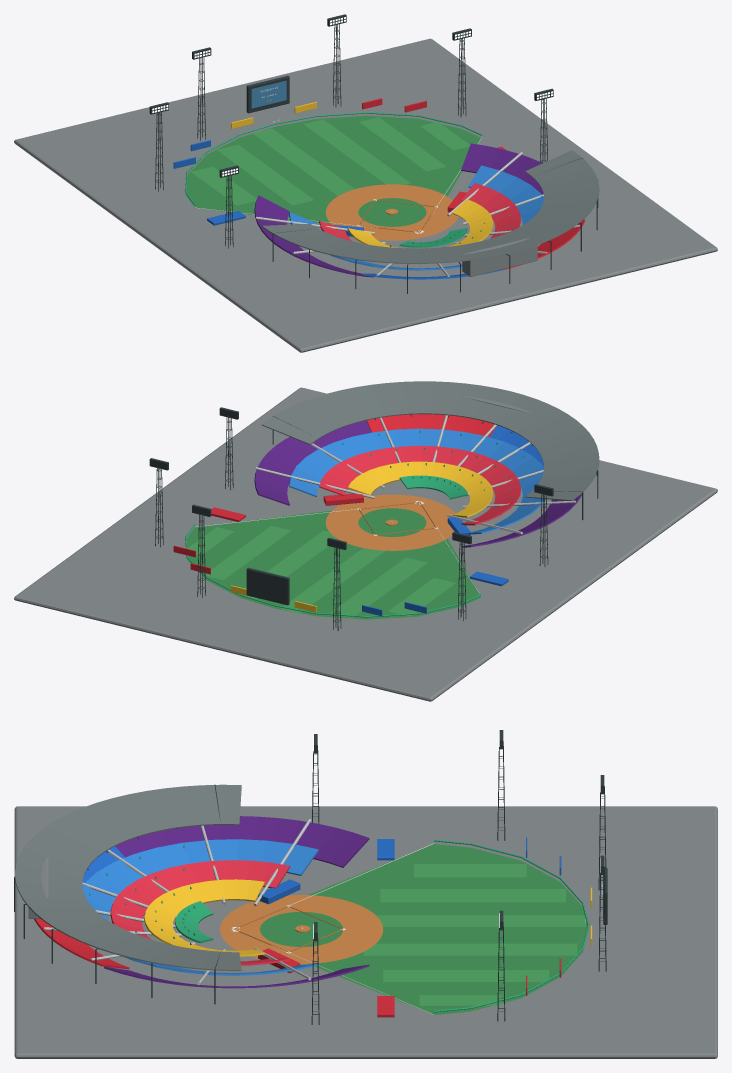
File: estadio-quisqueya-pre-current-blender.glb
3 renders of one model, top to bottom at view 1: azimuth 30°, elevation 25°; view 2: azimuth 150°, elevation 25°; view 3: azimuth 270°, elevation 25°, orthographic. The views are drawn at different scales.
Visible parts, largest first — view 1: stadium_site, field_grass, main_grandstand_roof, infield_clay, section_preferencias, grass_stripe_04, section_bleachers_right, section_palco_aa, grass_stripe_03, grass_stripe_02, infield_grass, section_bleachers_left (+12 smaller); view 2: stadium_site, main_grandstand_roof, field_grass, section_preferencias, section_palco_aa, infield_clay, section_palco_a, section_bleachers_right, section_escogido_side, grass_stripe_02, grass_stripe_03, infield_grass (+9 smaller); view 3: stadium_site, field_grass, main_grandstand_roof, section_preferencias, infield_clay, section_bleachers_left, section_palco_aa, section_palco_a, grass_stripe_04, grass_stripe_02, grass_stripe_03, infield_grass (+8 smaller).
Part boxes in pixels (x1,y1,x2,y2): stadium_site: [14, 38, 717, 352]; field_grass: [186, 115, 480, 224]; main_grandstand_roof: [261, 150, 599, 263]; infield_clay: [325, 184, 458, 240]; section_preferencias: [289, 165, 543, 270]; grass_stripe_04: [304, 119, 410, 184]; section_bleachers_right: [461, 143, 584, 219]; section_palco_aa: [319, 183, 520, 241]; grass_stripe_03: [253, 128, 354, 195]; grass_stripe_02: [217, 144, 313, 205]; infield_grass: [358, 198, 426, 226]; section_bleachers_left: [254, 195, 373, 277]; stadium_site: [14, 387, 717, 701]; main_grandstand_roof: [262, 381, 599, 500]; field_grass: [187, 510, 481, 619]; section_preferencias: [289, 428, 545, 534]; section_palco_aa: [319, 445, 521, 525]; infield_clay: [325, 494, 455, 550]; section_palco_a: [348, 461, 493, 517]; section_bleachers_right: [254, 420, 371, 505]; section_escogido_side: [366, 414, 496, 437]; grass_stripe_02: [330, 557, 427, 618]; grass_stripe_03: [280, 548, 385, 613]; infield_grass: [358, 508, 426, 536]; stadium_site: [14, 806, 717, 1058]; field_grass: [308, 844, 587, 1014]; main_grandstand_roof: [14, 784, 241, 971]; section_preferencias: [82, 839, 318, 975]; infield_clay: [220, 895, 383, 963]; section_bleachers_left: [115, 816, 369, 867]; section_palco_aa: [110, 860, 290, 965]; section_palco_a: [144, 879, 264, 956]; grass_stripe_04: [363, 943, 577, 955]; grass_stripe_02: [380, 889, 565, 902]; grass_stripe_03: [376, 915, 585, 926]; infield_grass: [260, 912, 342, 946].
Bounding box in the file's own units: 210 × 44.9 × 250.
